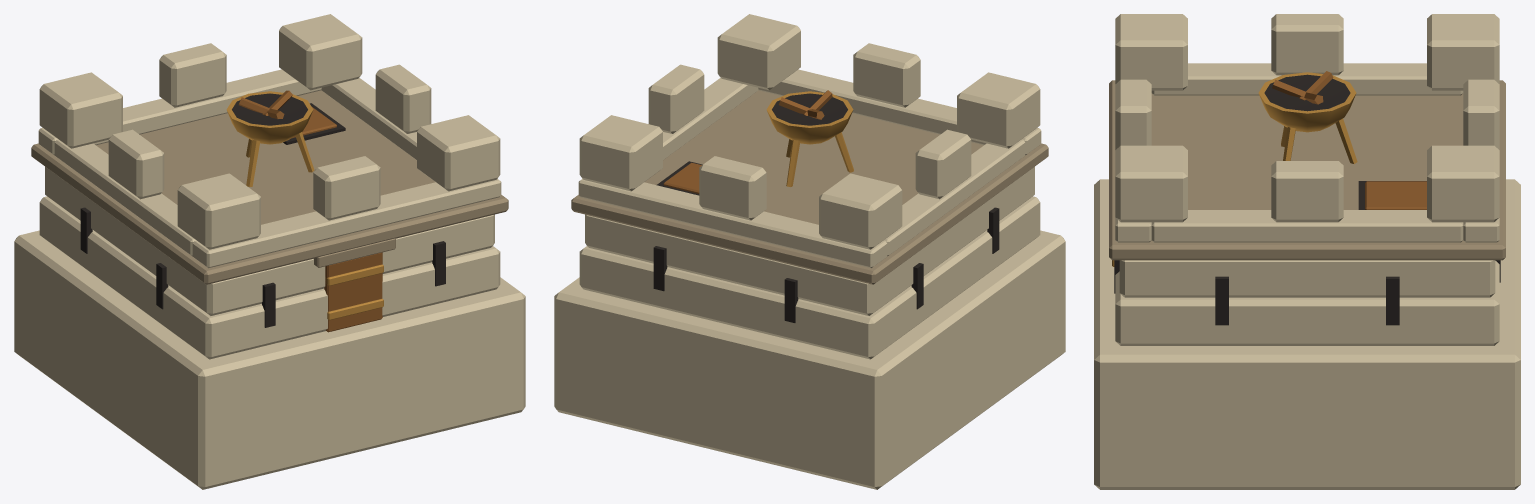
File: tower.glb
The picture shows the model from 3 angles, left to right: view 1: azimuth 30°, elevation 25°; view 2: azimuth 150°, elevation 25°; view 3: azimuth 270°, elevation 25°; orthographic projection. The views are drawn at different scales.
Parts seen in each view (by area): view 1: tower; view 2: tower; view 3: tower.
Part boxes in pixels (x1=…): tower: x1=14, y1=14, x2=525, y2=489; tower: x1=554, y1=14, x2=1065, y2=489; tower: x1=1094, y1=14, x2=1520, y2=489.
Size of the model in its own units: 1 by 0.8293 by 1.
